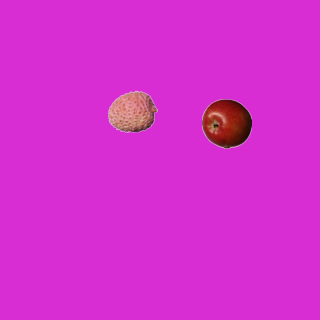Apple Braeburn: (201, 98, 251, 148)
Lychee: (107, 86, 157, 136)
